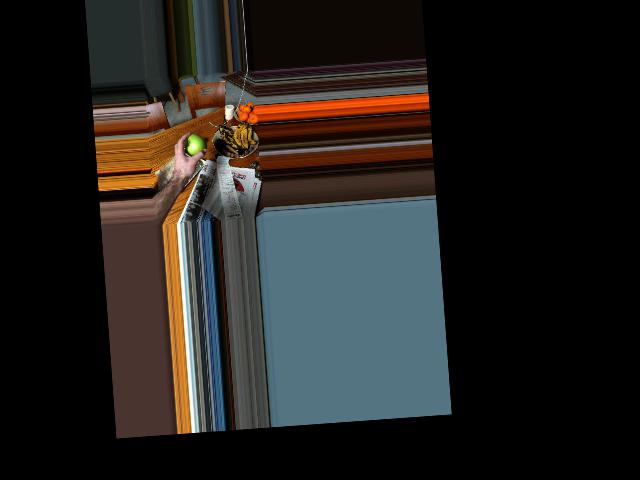apple: (183, 133, 208, 157)
